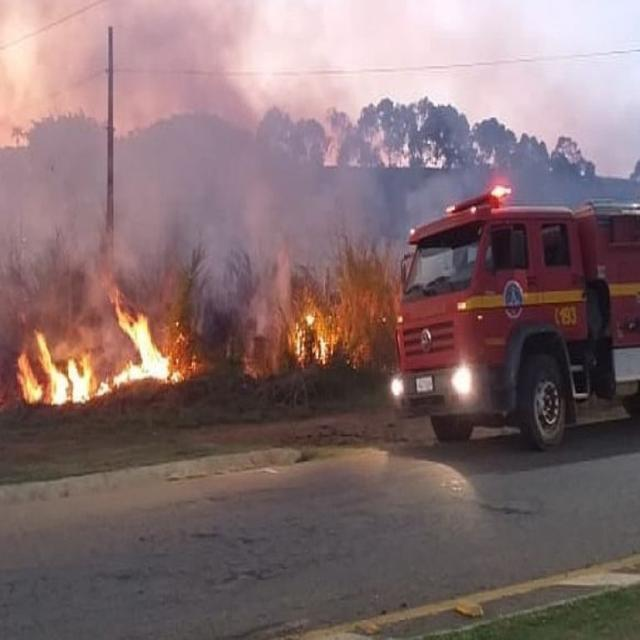Fire: (30, 334, 169, 406)
Smoke: (42, 24, 220, 232), (228, 159, 376, 244)
